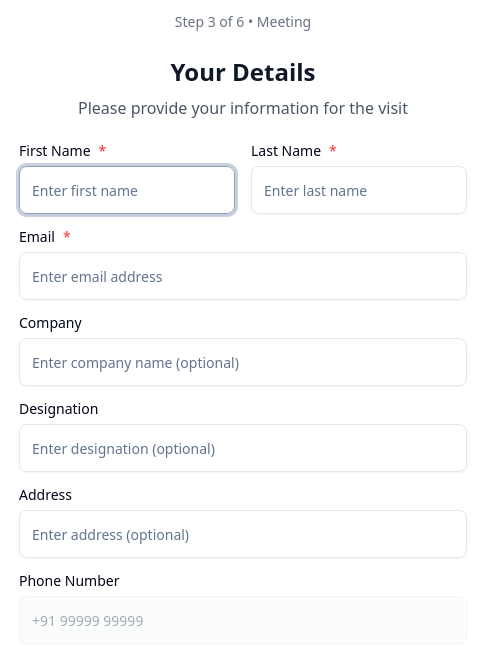
it: MeetingRegistrationForm › Form Validation › should validate email format
Type "invalidemail" into the field labelled "Email *" at (243, 276), box [19, 252, 467, 300]
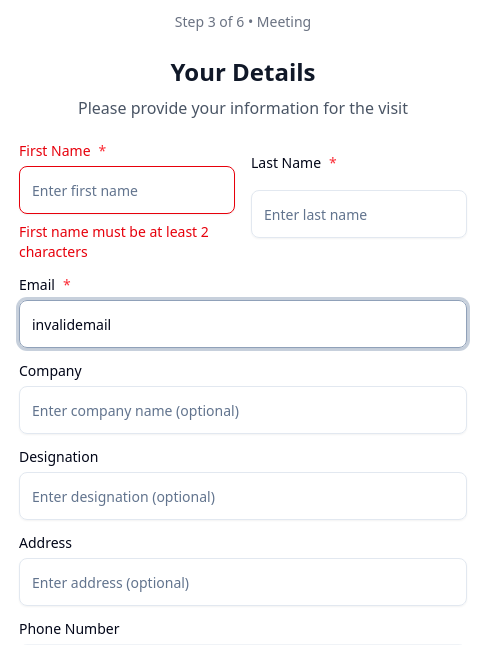
Press Tab
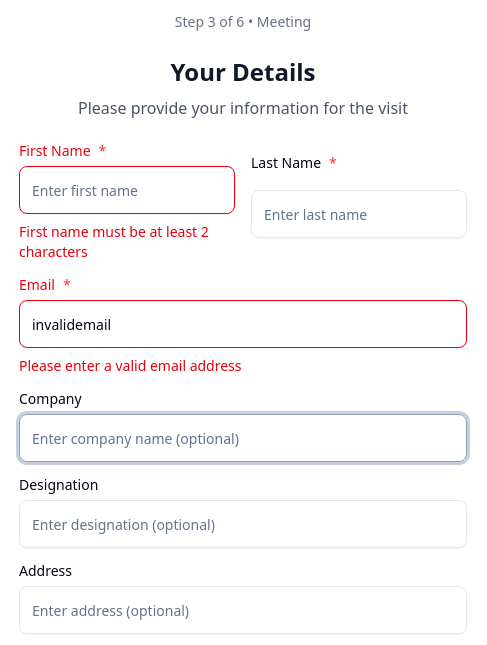
Check: the text "Please enter a valid email address" is shown, box [19, 356, 242, 375]
